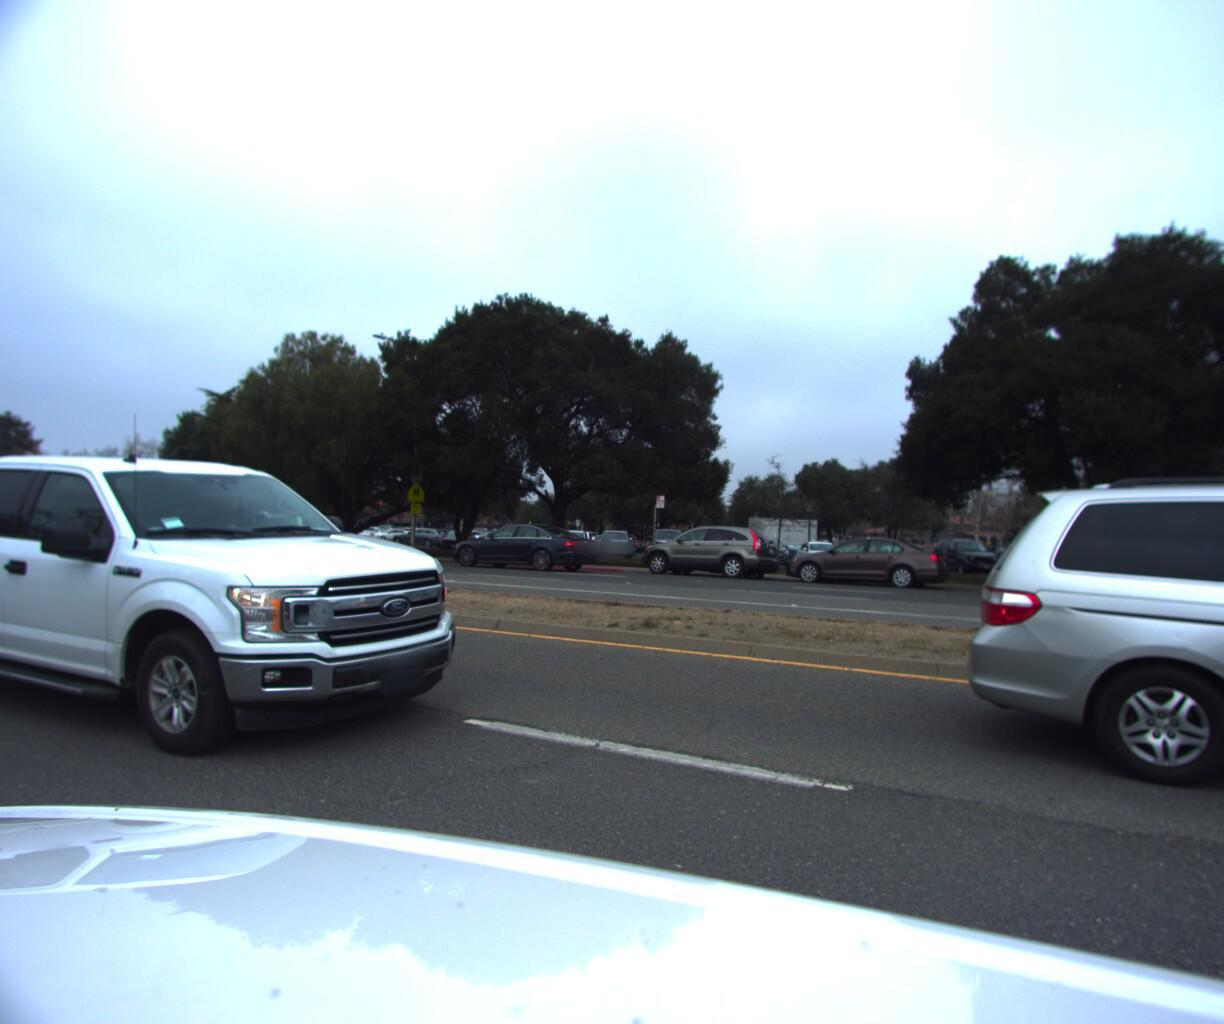car: (0, 430, 510, 793), (925, 435, 1224, 969), (775, 533, 955, 593), (625, 524, 785, 584), (447, 526, 605, 576)
